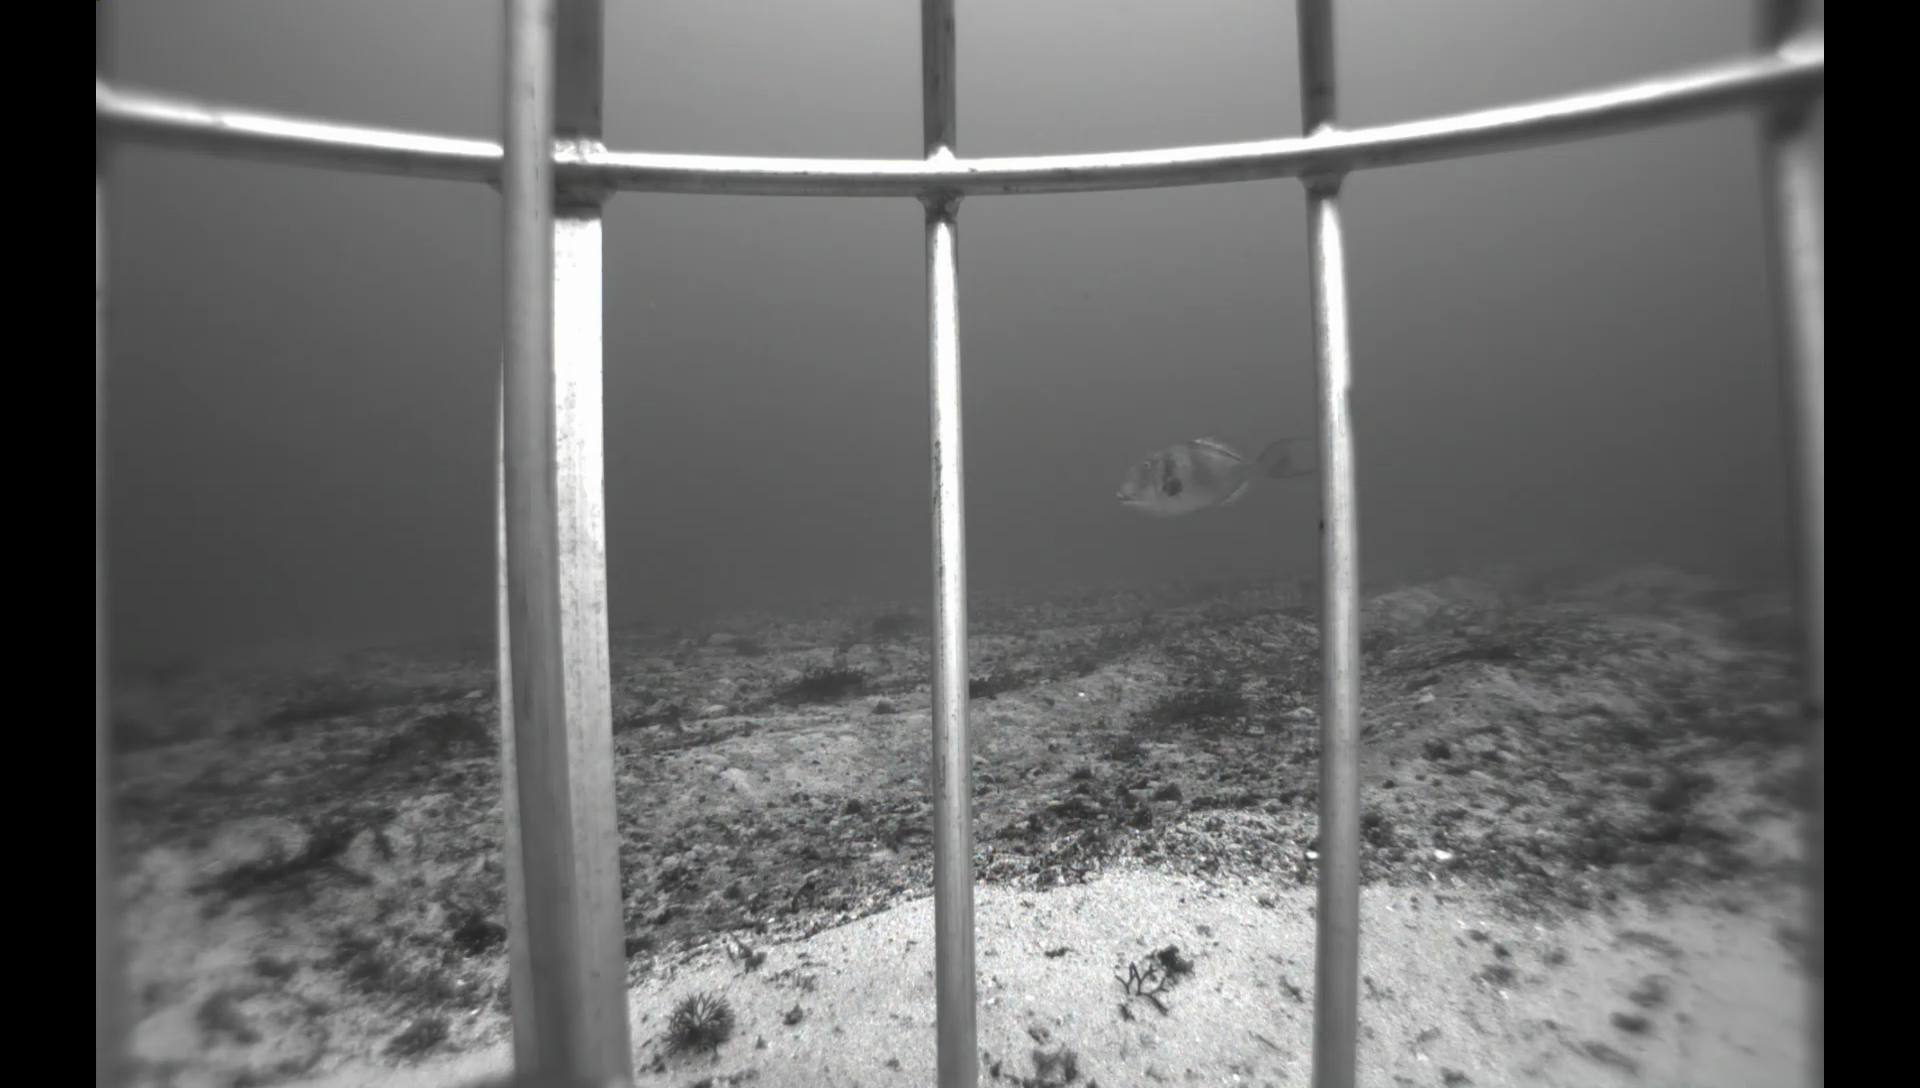BALISTESCAPRISCUS-189030502: (1112, 422, 1321, 528)
